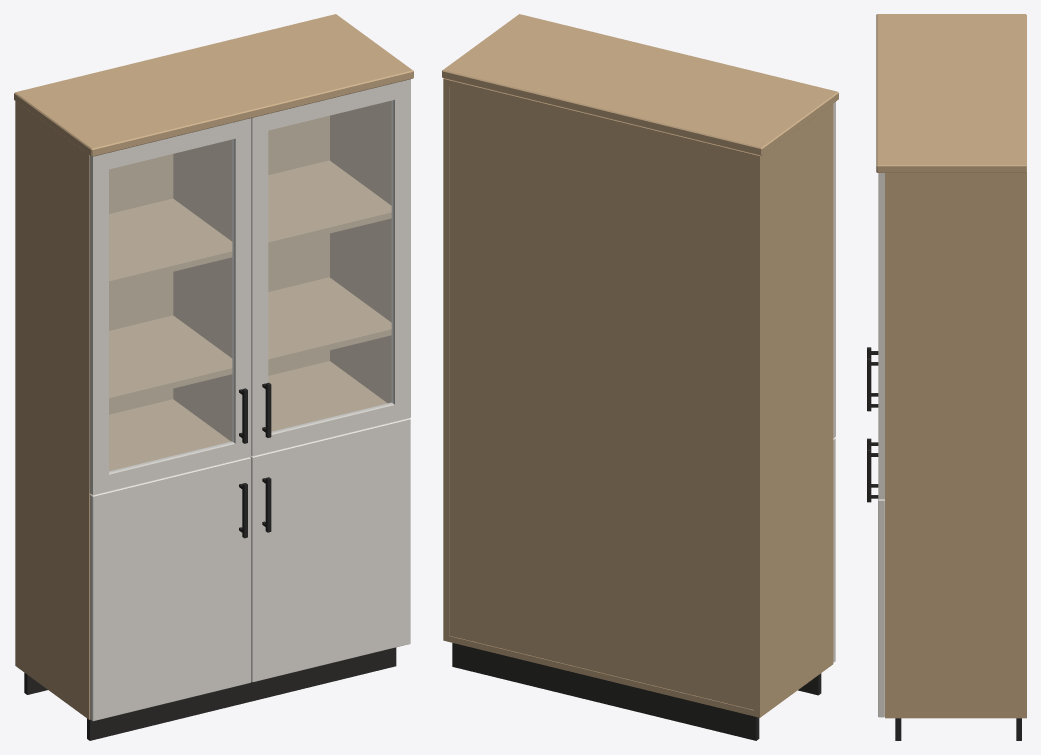
The model's file is 34_witryna_100.glb.
3 views of the same model, side by side, from view 1: azimuth 30°, elevation 25°; view 2: azimuth 150°, elevation 25°; view 3: azimuth 270°, elevation 25° (orthographic). The views are drawn at different scales.
Parts seen in each view (by area): view 1: Korpus, Szklo_3, Szklo_1, Front_drzwi_2, Front_drzwi_4, Wierzch, Front_witryna_1, Front_witryna_3, Cokol, Uchwyty; view 2: Korpus, Wierzch, Cokol, Front_witryna_1, Front_drzwi_2; view 3: Korpus, Wierzch, Front_witryna_3, Front_drzwi_4, Uchwyty, Cokol.
Part boxes in pixels (left/top/right/bottom): Korpus: left=15, top=101, right=391, bottom=719; Szklo_3: left=268, top=100, right=393, bottom=433; Szklo_1: left=109, top=139, right=233, bottom=472; Front_drzwi_2: left=90, top=457, right=251, bottom=721; Front_drzwi_4: left=250, top=418, right=410, bottom=682; Wierzch: left=14, top=14, right=413, bottom=156; Front_witryna_1: left=89, top=118, right=251, bottom=495; Front_witryna_3: left=251, top=79, right=410, bottom=456; Cokol: left=24, top=647, right=396, bottom=740; Uchwyty: left=239, top=382, right=271, bottom=538; Korpus: left=443, top=78, right=833, bottom=717; Wierzch: left=442, top=14, right=838, bottom=155; Cokol: left=452, top=643, right=821, bottom=740; Front_witryna_1: left=833, top=102, right=835, bottom=438; Front_drzwi_2: left=833, top=437, right=835, bottom=662; Korpus: left=885, top=172, right=1026, bottom=718; Wierzch: left=876, top=14, right=1026, bottom=172; Front_witryna_3: left=878, top=173, right=884, bottom=499; Front_drzwi_4: left=878, top=499, right=884, bottom=717; Uchwyty: left=867, top=347, right=878, bottom=502; Cokol: left=895, top=718, right=1021, bottom=740.
Size of the model in its own units: 1.01 by 1.8 by 0.45.
